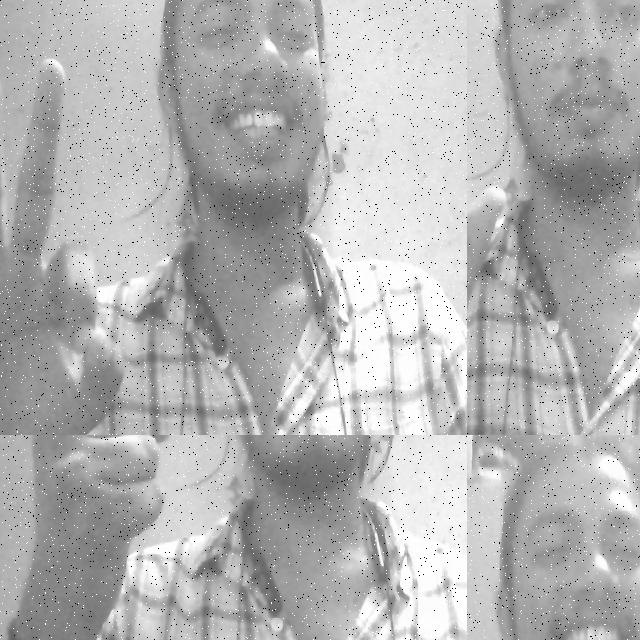Hello: (467, 0, 514, 431)
No: (22, 435, 177, 612)
Please: (0, 40, 136, 435)
